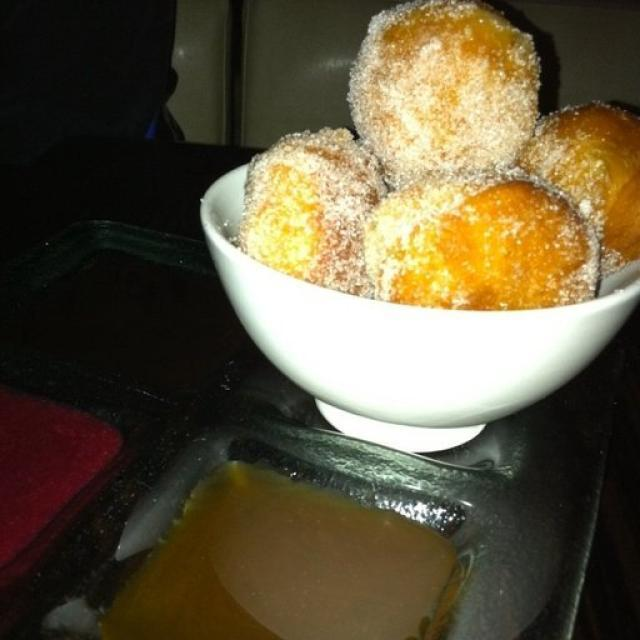Donuts: (224, 4, 640, 319)
